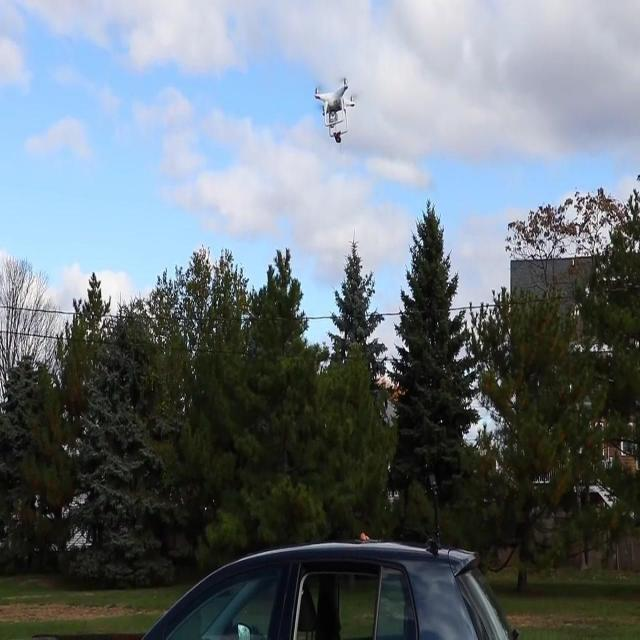UAV: (314, 76, 356, 144)
